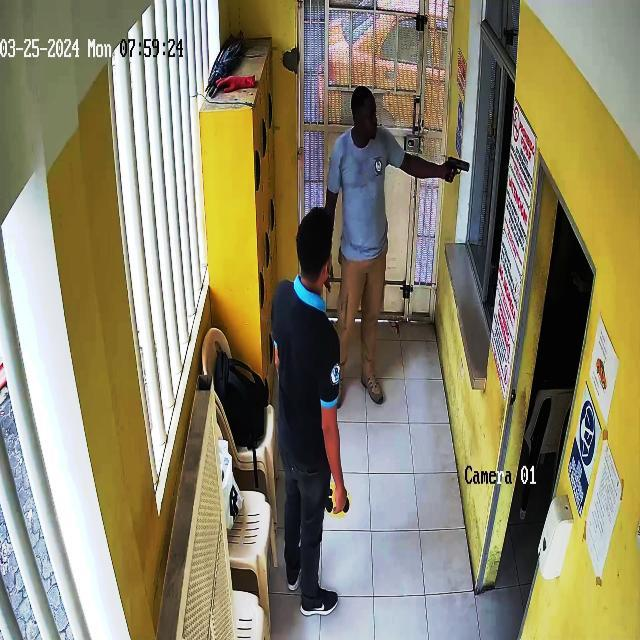Gun: (428, 136, 475, 212)
